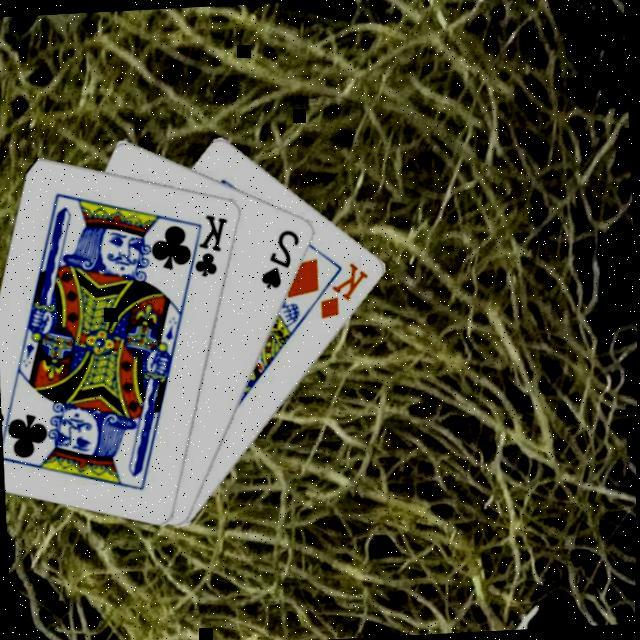2S: (255, 224, 304, 290)
KC: (180, 209, 233, 281), (1, 397, 19, 469)
KD: (314, 256, 373, 321)
